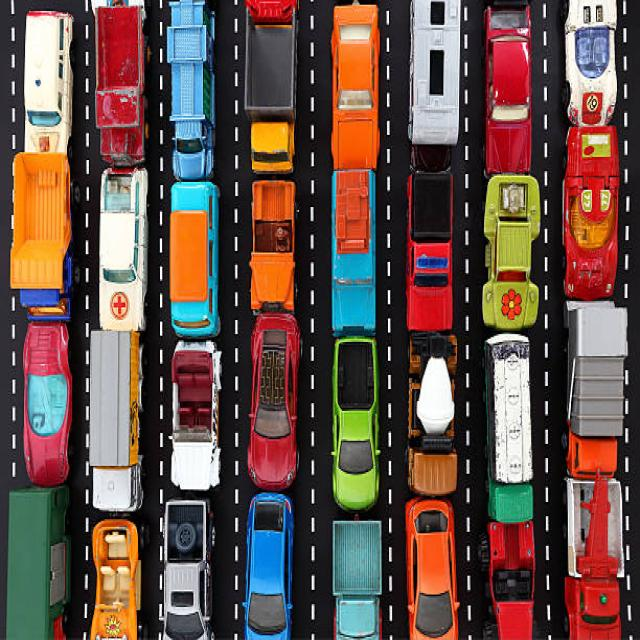Car: (562, 124, 619, 300), (246, 311, 301, 491), (481, 173, 541, 331), (330, 334, 380, 513), (483, 2, 532, 177), (22, 320, 72, 486), (168, 180, 220, 339), (98, 166, 148, 331), (168, 339, 222, 491), (404, 496, 460, 638), (405, 168, 453, 331), (241, 491, 294, 638), (563, 0, 617, 127), (249, 179, 297, 315), (89, 518, 141, 638)
